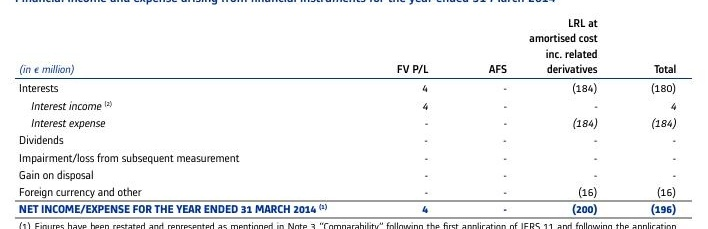table: (0, 0, 708, 229)
